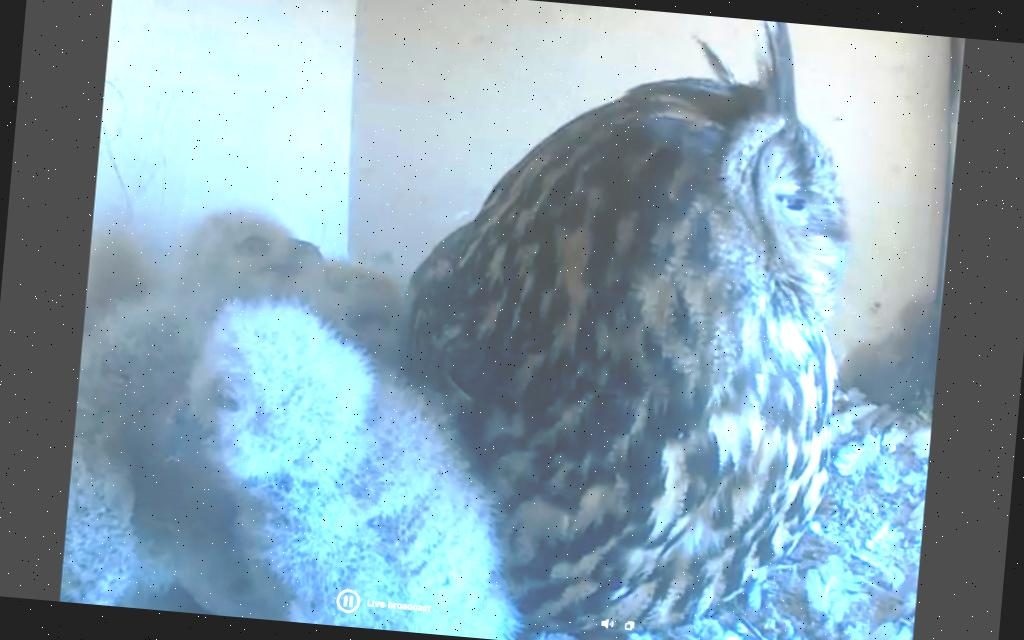Owl: (370, 0, 870, 640), (156, 282, 390, 524), (178, 172, 351, 301)
